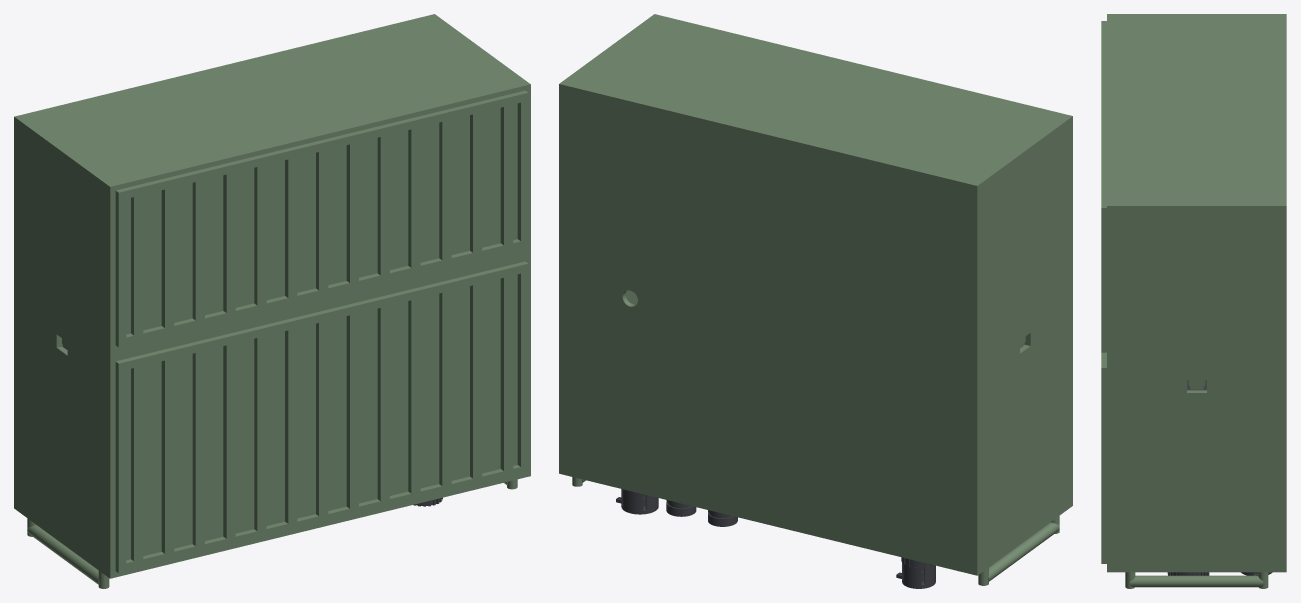
The model's file is CNR900_assembled.glb.
3 views of the same model, side by side, from view 1: azimuth 30°, elevation 25°; view 2: azimuth 150°, elevation 25°; view 3: azimuth 270°, elevation 25° (orthographic). The views are drawn at different scales.
Visible parts, largest first — view 1: battery_box, case_front, handle_left; view 2: battery_box, case_front, handle_left, cap_aud, cap_ant; view 3: battery_box, case_front, handle_right.
Part boxes in pixels (bbox=[...]): battery_box: bbox=[14, 14, 530, 356]; case_front: bbox=[14, 253, 530, 578]; handle_left: bbox=[27, 518, 109, 588]; battery_box: bbox=[559, 14, 1072, 354]; case_front: bbox=[559, 252, 1072, 575]; handle_left: bbox=[978, 516, 1059, 585]; cap_aud: bbox=[616, 489, 658, 514]; cap_ant: bbox=[896, 562, 935, 588]; battery_box: bbox=[1101, 14, 1286, 389]; case_front: bbox=[1101, 352, 1286, 572]; handle_right: bbox=[1125, 572, 1268, 588].
Size of the model in its own units: 273 by 265 by 112.
